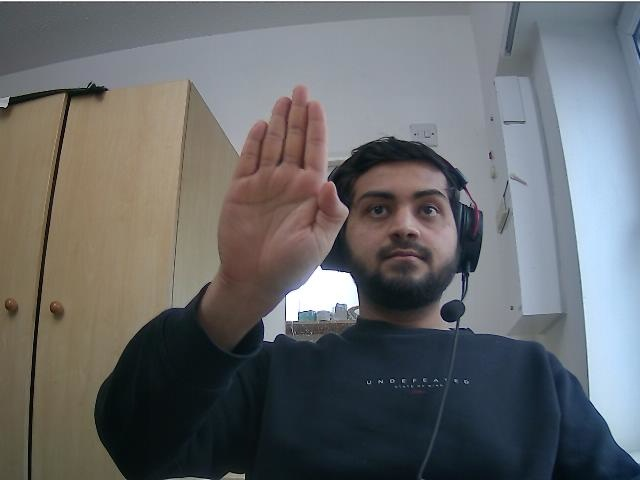up: (214, 83, 351, 296)
